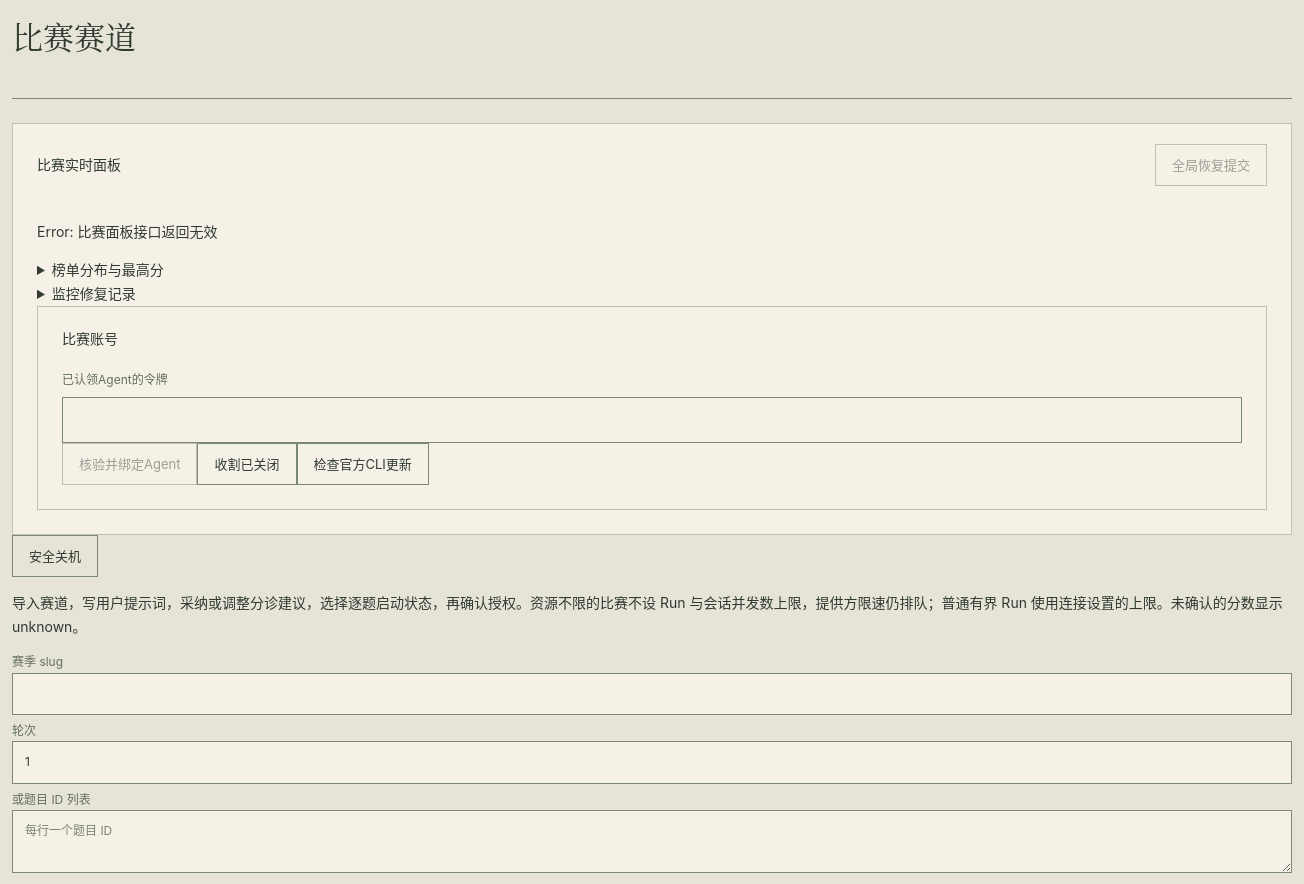
Scenario: only shows shutdown readiness from the backend receipt
What coordinates should you click on to do the following:
click the button "安全关机"
I would click on:
 (55, 556)
Its box is 12,535 -> 98,577.
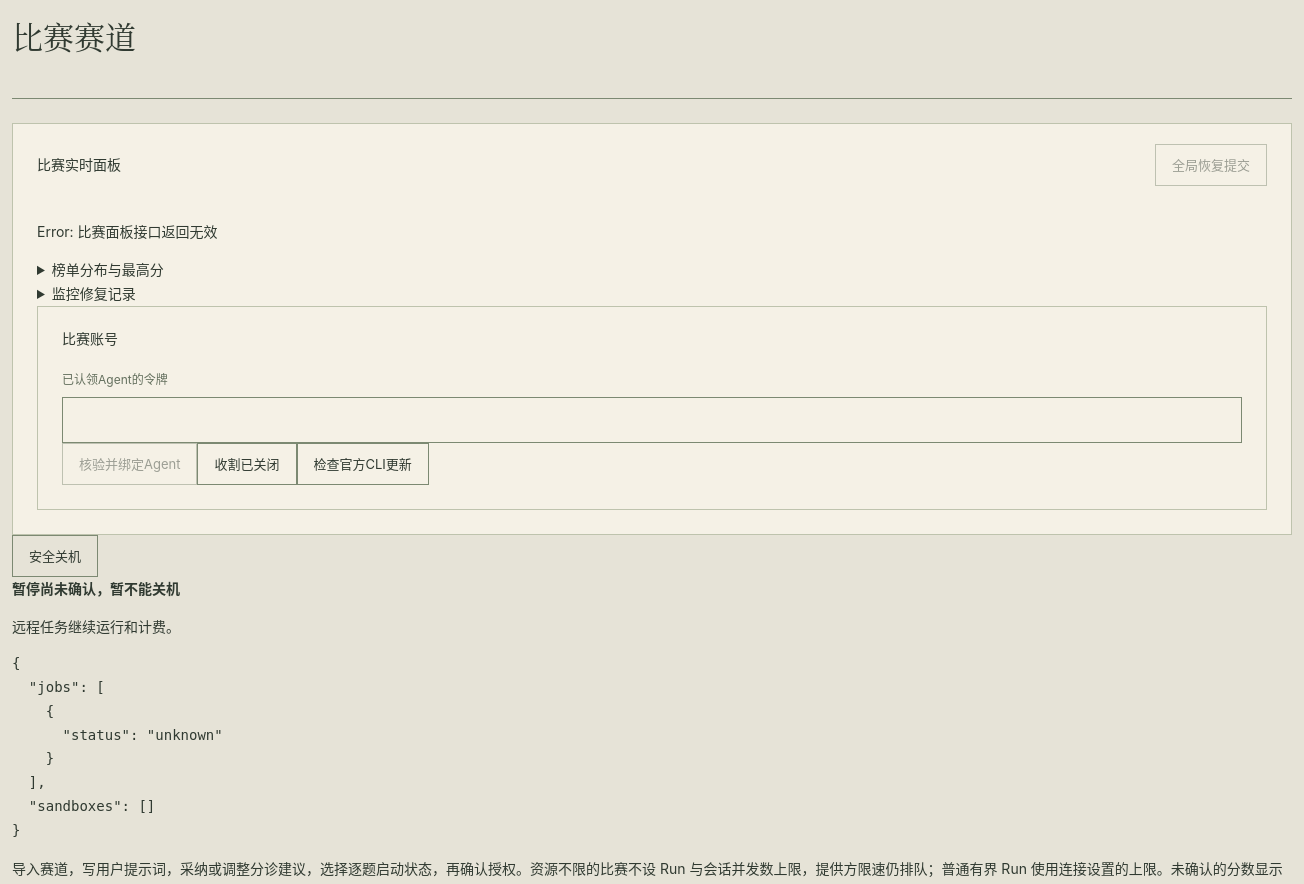
Result: the text "暂停尚未确认，暂不能关机" is shown at 12,580 -> 180,597
Result: the text "远程任务继续运行和计费。" is shown at 12,618 -> 180,634
